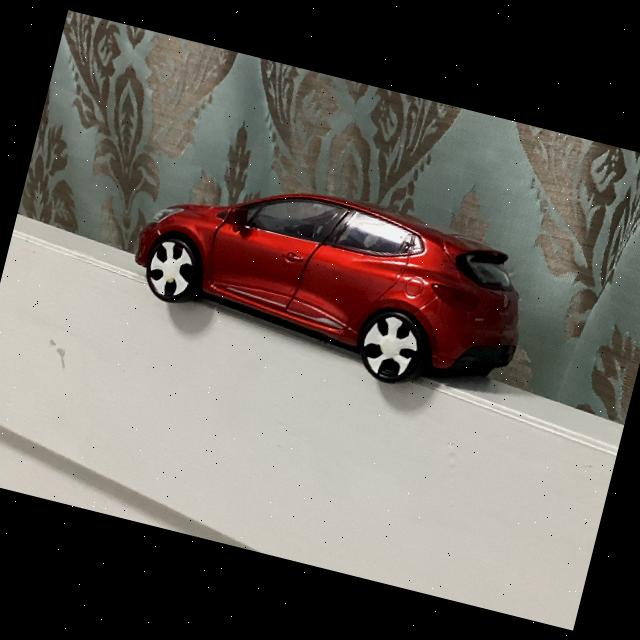Yanlis_Jant: (357, 311, 424, 384), (142, 236, 198, 302)
